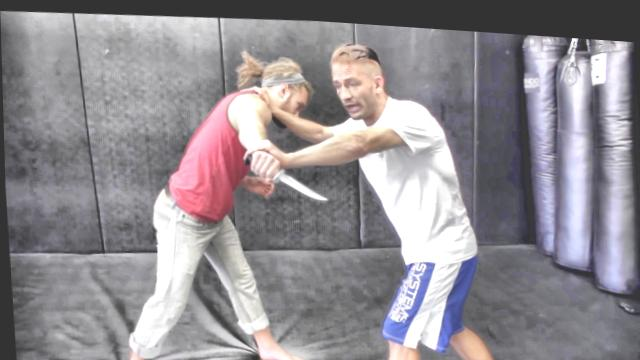knife: (240, 142, 333, 206)
